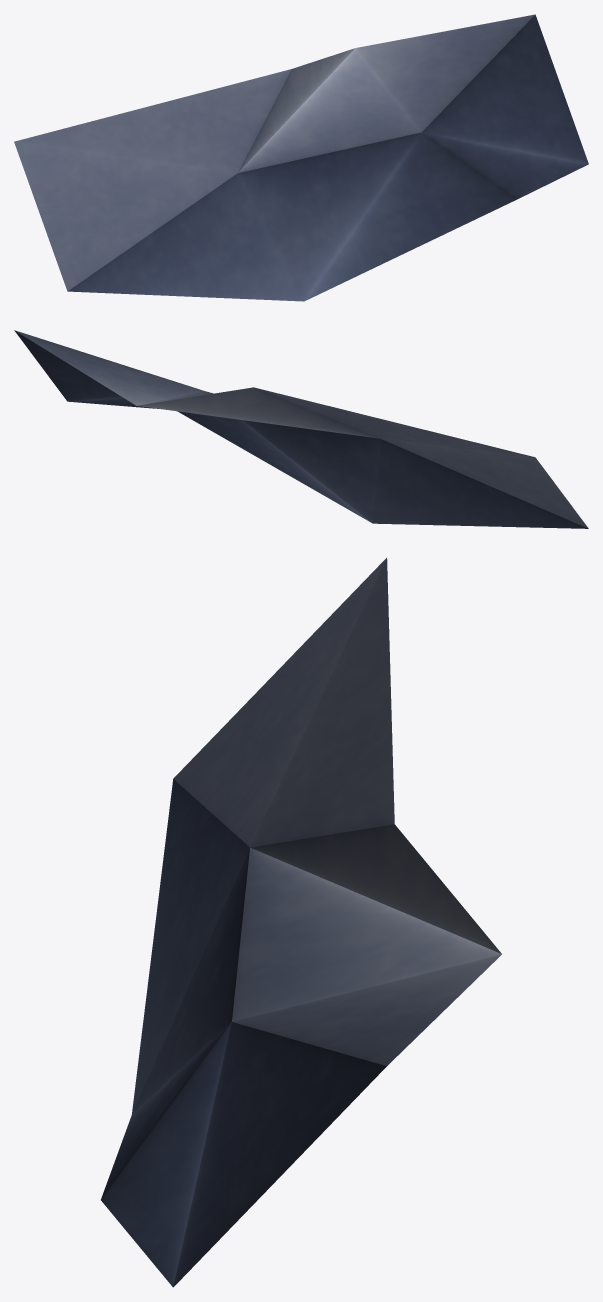
The model's file is SM_Ceiling_Edge_A_A.fbx.
The picture shows the model from 3 angles, top to bottom: view 1: azimuth 30°, elevation 25°; view 2: azimuth 150°, elevation 25°; view 3: azimuth 270°, elevation 25°; orthographic projection. The views are drawn at different scales.
Visible parts, largest first — view 1: pCube202; view 2: pCube202; view 3: pCube202.
Part boxes in pixels (x1,y1,x2,y2): pCube202: (14,14,588,301); pCube202: (14,330,588,528); pCube202: (101,558,501,1287).
Size of the model in its own units: 1 by 0.3141 by 0.3334.
